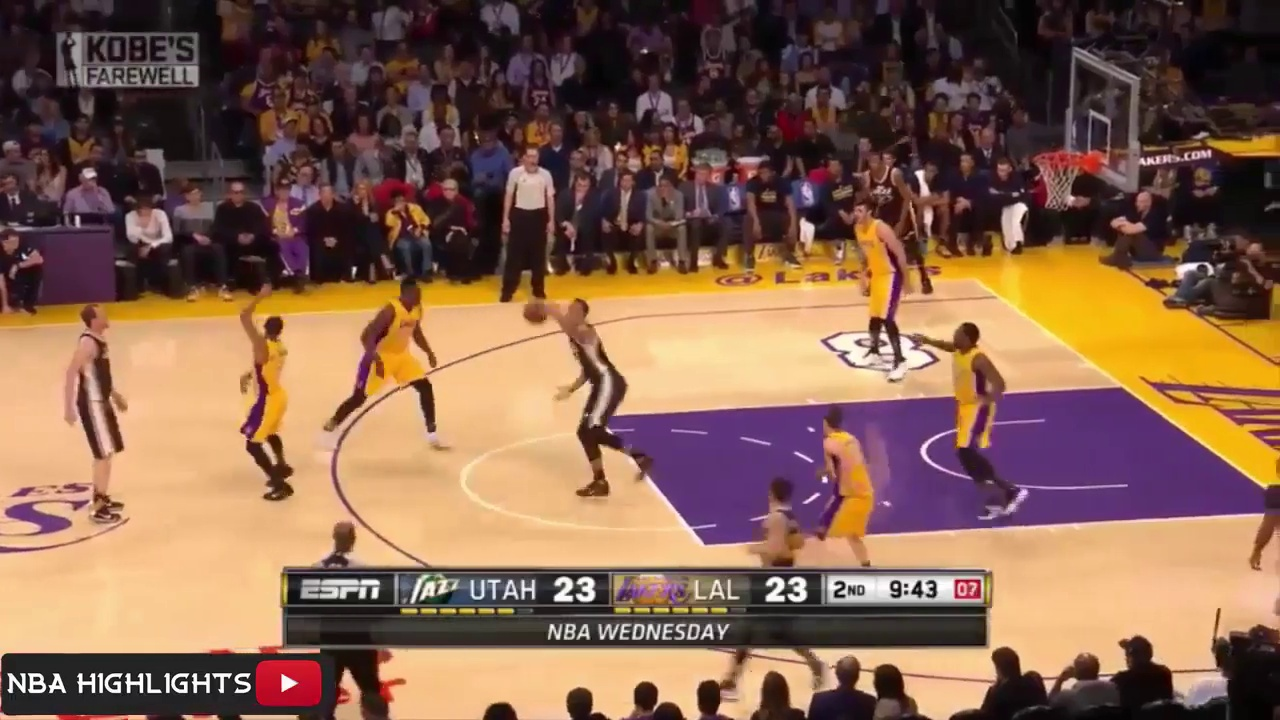jazz: (521, 284, 657, 492), (65, 299, 134, 529), (872, 157, 938, 298), (752, 471, 802, 563)
lakers: (920, 311, 1042, 518), (332, 258, 452, 448), (235, 277, 300, 495), (845, 195, 913, 378), (808, 409, 881, 564)
